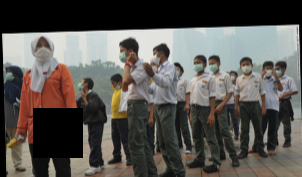mask_weared_incorrect: (110, 80, 119, 90)
with_mask: (33, 39, 52, 62), (119, 47, 129, 63), (240, 61, 252, 74), (193, 59, 204, 72), (152, 49, 161, 64), (5, 69, 16, 81), (208, 60, 218, 73), (263, 65, 273, 77), (149, 61, 158, 73), (274, 65, 283, 77), (77, 79, 85, 92), (229, 72, 236, 81)
